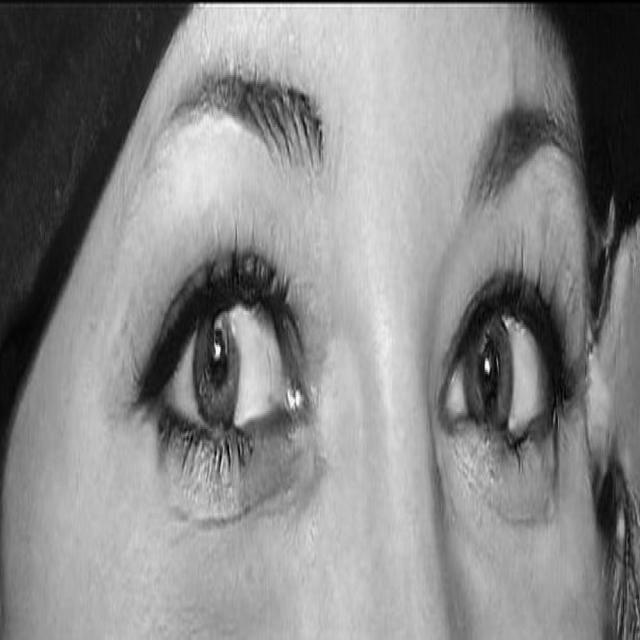real: (127, 153, 589, 577)
